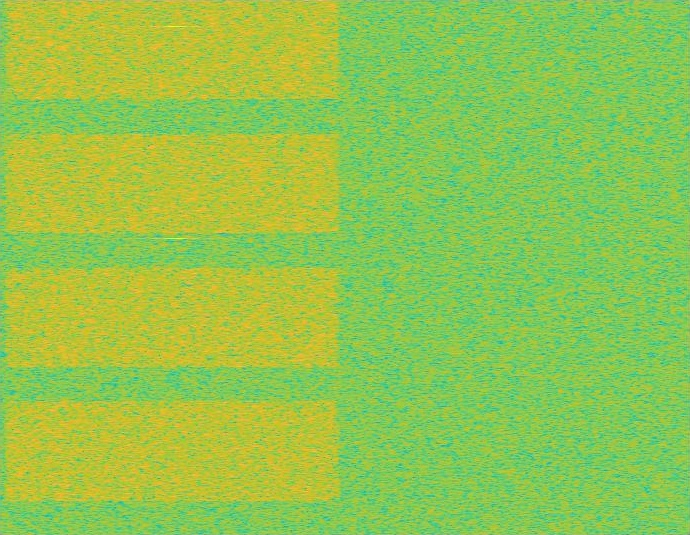5G: (0, 0, 345, 534)
Radar: (169, 0, 183, 534)
